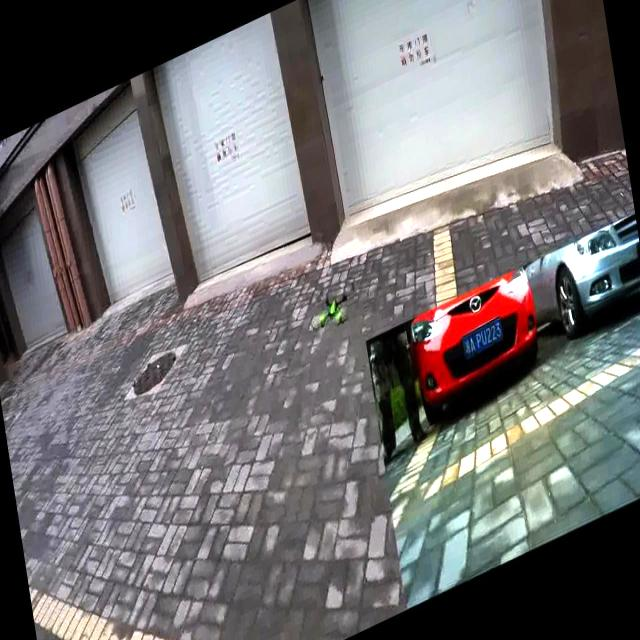drone: (309, 275, 354, 342)
